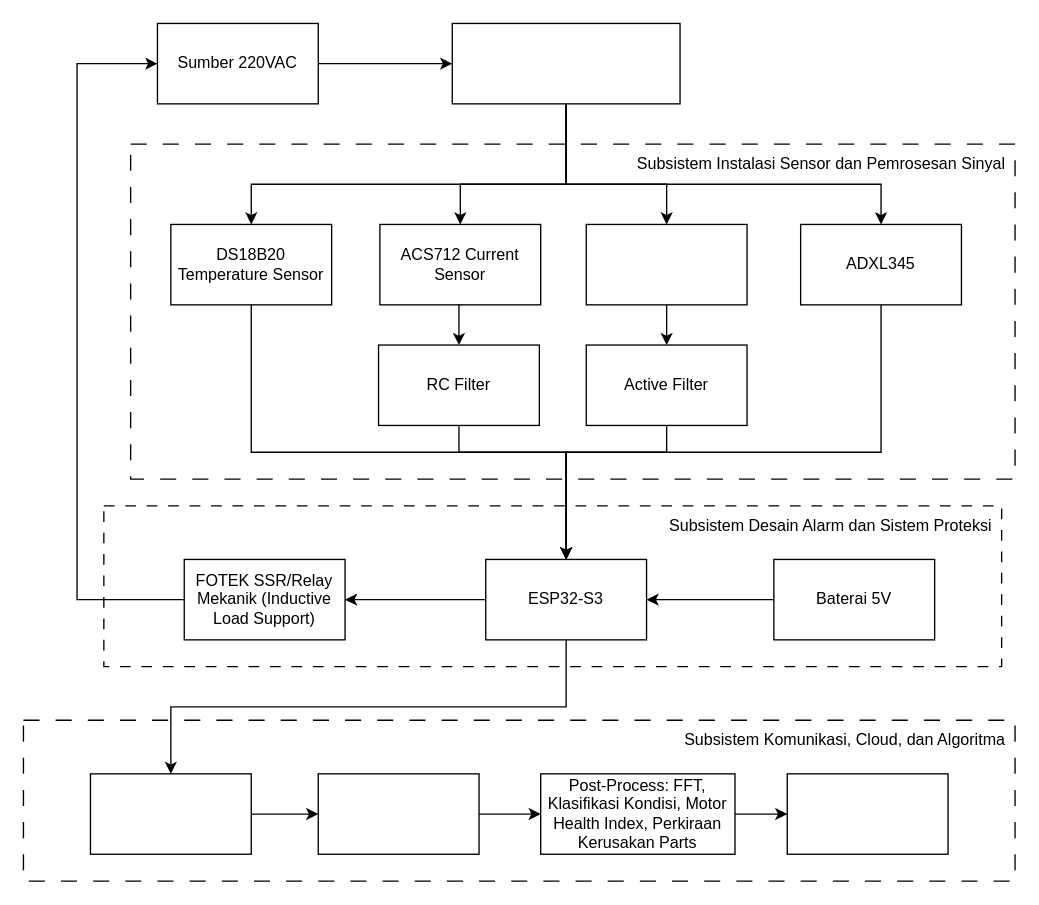
The diagram is 1039 pixels wide and 905 high, and some of its shapes have lost their labels. The shapes that lost their labels are listed below. From the top down, each one's centre as x and y in pixels, then its label:
At pixel 565 63: "Capacitor-starter SPIM Model Cosmos SN16".
At pixel 666 264: "A3144 Hall Sensor".
At pixel 170 813: "MQTT dan Enkripsi".
At pixel 398 813: "Cloud: Thingspeak".
At pixel 867 813: "HMI Model Dashboard".
